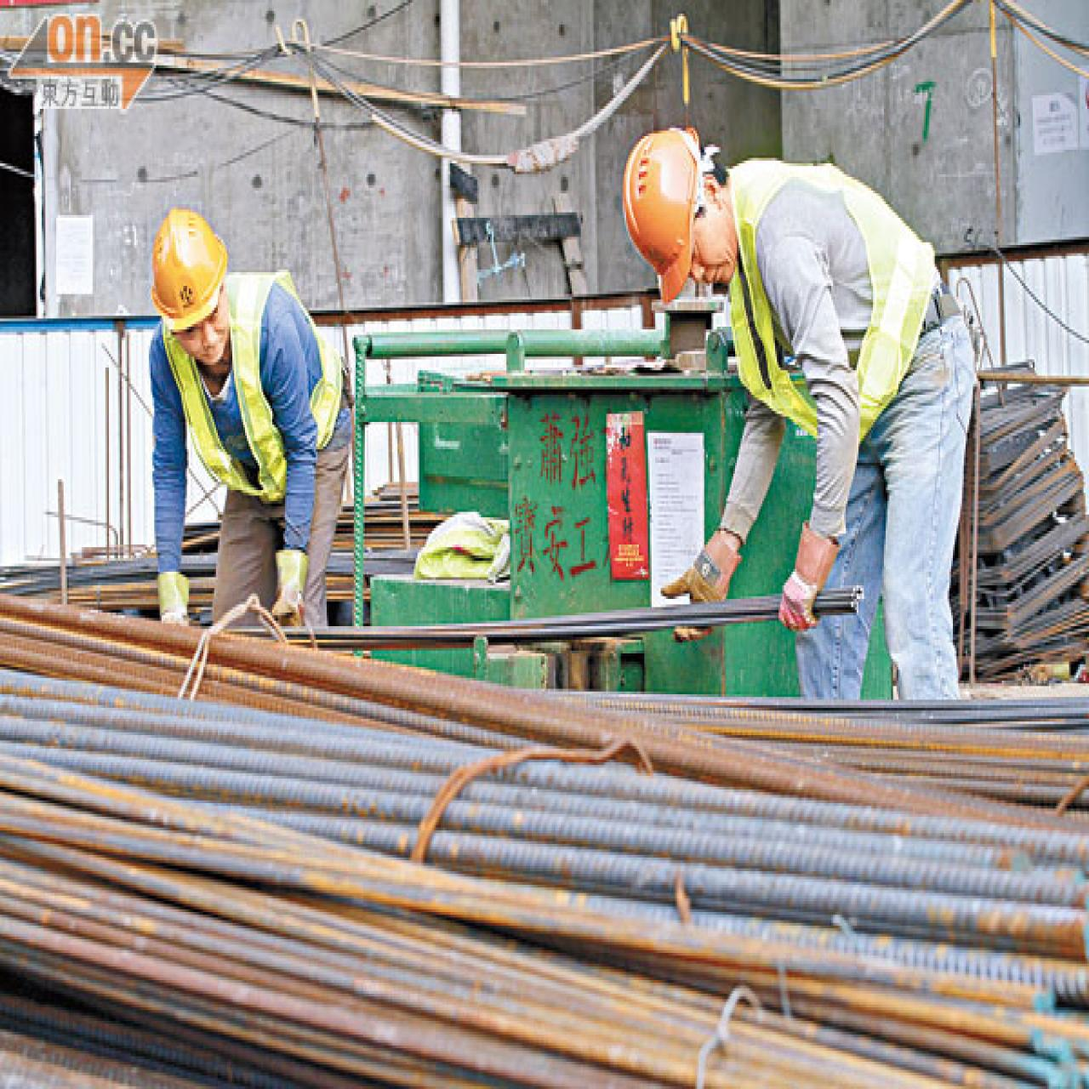Person: (614, 107, 1026, 735), (117, 187, 383, 670)
Safety_Vest: (718, 146, 968, 455), (156, 278, 348, 524)
